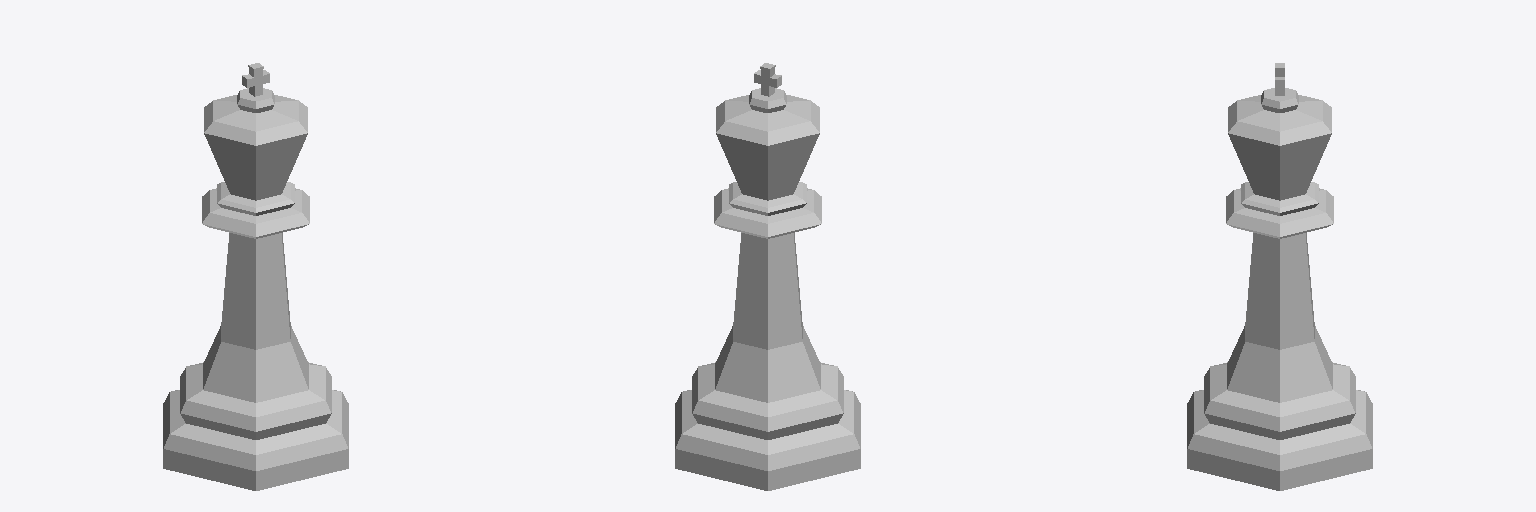
The model's file is rey.obj.
3 views of the same model, side by side, from view 1: azimuth 30°, elevation 25°; view 2: azimuth 150°, elevation 25°; view 3: azimuth 270°, elevation 25° (orthographic).
Parts seen in each view (by area): view 1: polySurface14; view 2: polySurface14; view 3: polySurface14.
Boxes of the visible parts, x1,y1,x2,y2 form: polySurface14: [163, 63, 348, 490]; polySurface14: [675, 63, 860, 490]; polySurface14: [1187, 63, 1372, 490].
Bounding box in the file's own units: 0.8764 × 1.72 × 0.7589.